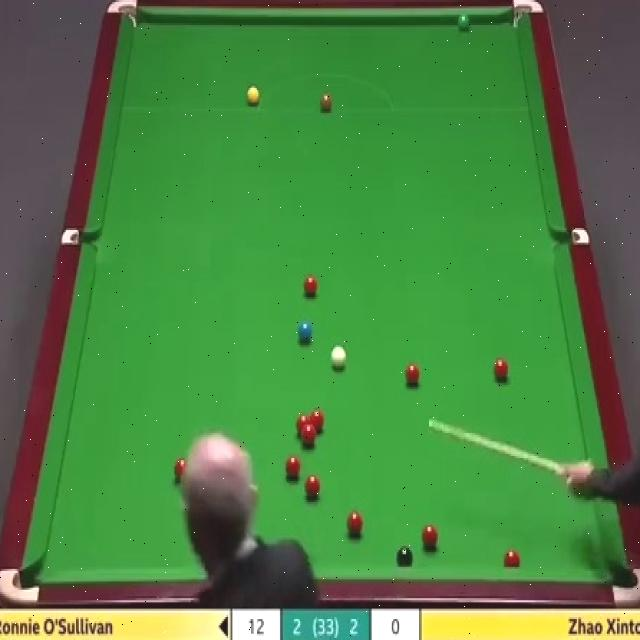black-ball: (397, 544, 413, 568)
blue-ball: (297, 320, 314, 342)
brown-ball: (320, 89, 332, 111)
green-ball: (458, 9, 472, 30)
red-ball: (303, 274, 322, 302), (304, 470, 322, 499), (347, 509, 364, 539), (421, 524, 439, 552), (404, 360, 421, 388), (282, 457, 302, 480), (493, 358, 508, 383), (296, 414, 310, 440), (310, 410, 324, 434), (503, 548, 521, 566), (302, 427, 317, 448), (174, 457, 186, 478)
white-ball: (330, 345, 346, 367)
yellow-ball: (246, 88, 259, 105)
